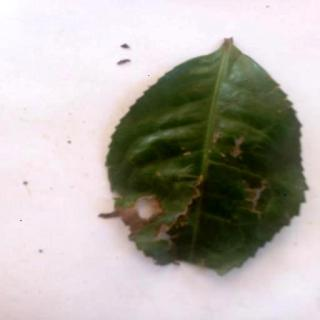Brown Blight: (107, 38, 309, 276)
